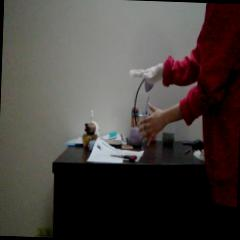gloved: (128, 62, 162, 82)
not-gloved: (136, 104, 166, 146)
